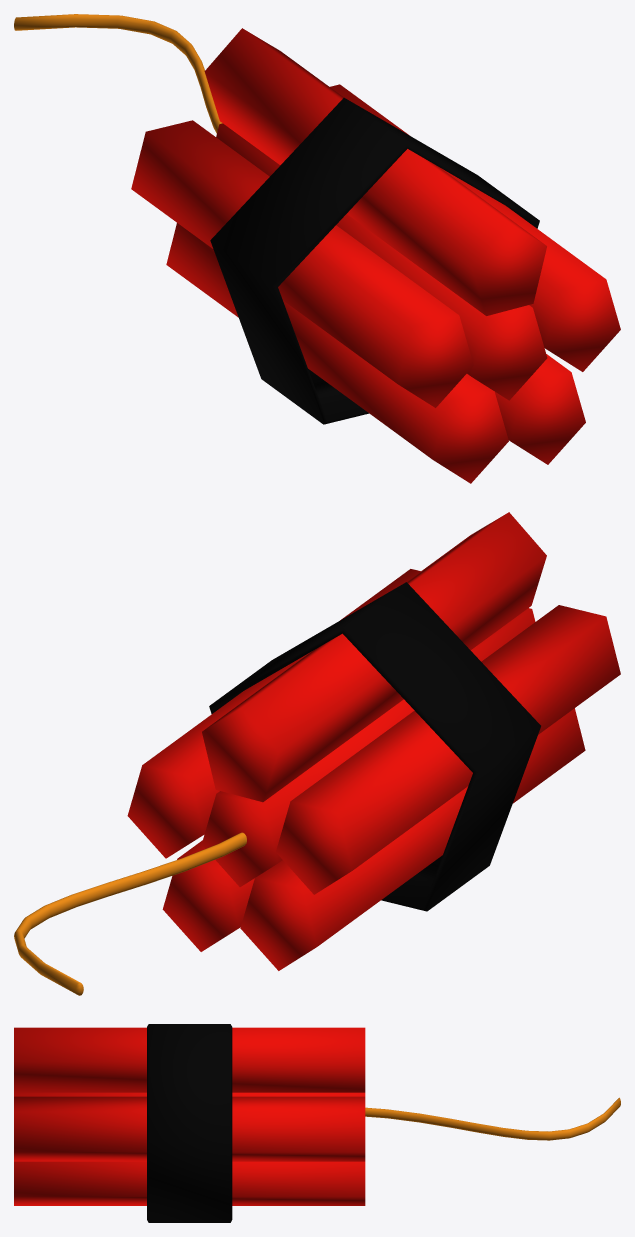
The model's file is e_dynamite.fbx.
3 renders of one model, top to bottom at view 1: azimuth 30°, elevation 25°; view 2: azimuth 150°, elevation 25°; view 3: azimuth 270°, elevation 25°, orthographic. The views are drawn at different scales.
Visible parts, largest first — view 1: e_dynamite; view 2: e_dynamite; view 3: e_dynamite.
Part boxes in pixels (box(x1,y1,x2,y2)): e_dynamite: box(14, 14, 620, 483); e_dynamite: box(14, 512, 620, 995); e_dynamite: box(14, 1024, 620, 1222).
Size of the model in its own units: 26.84 by 25.06 by 80.
